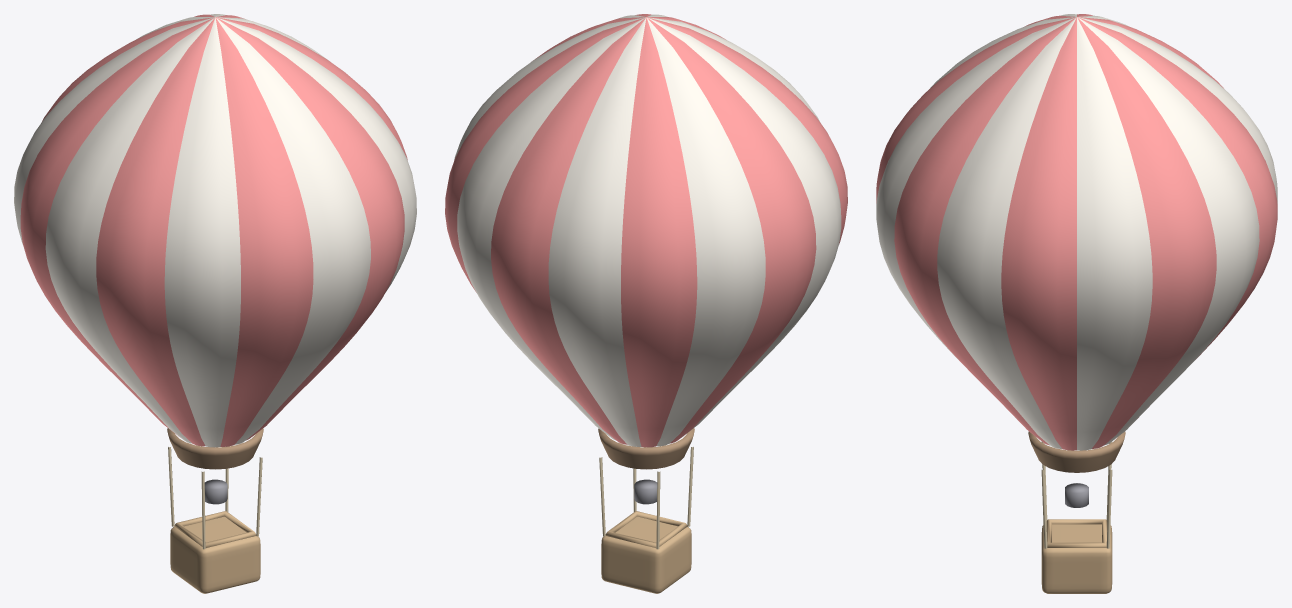
Rendered from MechaMarathonSkyBalloon.glb.
The picture shows the model from 3 angles, left to right: view 1: azimuth 30°, elevation 25°; view 2: azimuth 150°, elevation 25°; view 3: azimuth 270°, elevation 25°; orthographic projection.
Visible parts, largest first — view 1: StripesA, StripesB, Basket, Skirt, Rope, Burner; view 2: StripesB, StripesA, Basket, Skirt, Rope, Burner; view 3: StripesA, StripesB, Basket, Skirt, Rope, Burner.
Part boxes in pixels (x1,y1,x2,y2): StripesA: [20, 14, 407, 446]; StripesB: [14, 14, 416, 447]; Basket: [170, 511, 260, 593]; Skirt: [167, 428, 263, 469]; Rope: [168, 446, 262, 549]; Burner: [204, 479, 227, 504]; StripesB: [454, 14, 841, 446]; StripesA: [445, 14, 847, 447]; Basket: [601, 511, 691, 593]; Skirt: [598, 428, 694, 469]; Rope: [599, 446, 693, 549]; Burner: [634, 479, 657, 504]; StripesA: [876, 14, 1277, 450]; StripesB: [876, 14, 1277, 450]; Basket: [1041, 519, 1112, 593]; Skirt: [1028, 431, 1125, 472]; Rope: [1041, 441, 1112, 548]; Burner: [1065, 483, 1088, 507].
Bounding box in the file's own units: 14.83 × 23 × 14.83.
